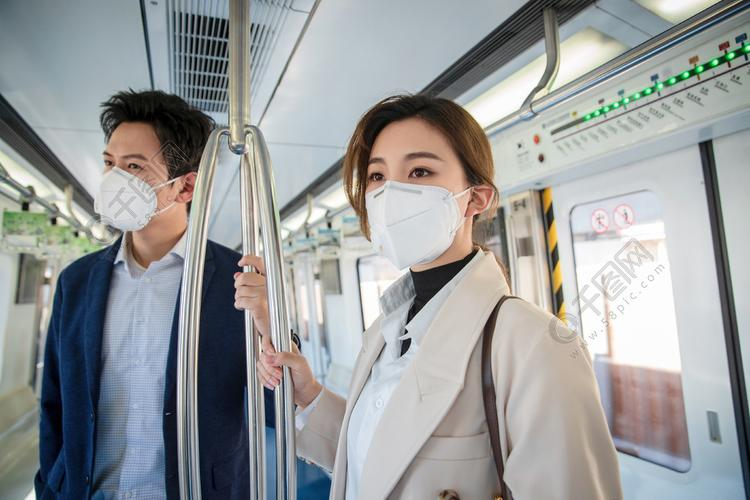mask: (356, 119, 471, 265), (95, 110, 182, 232)
